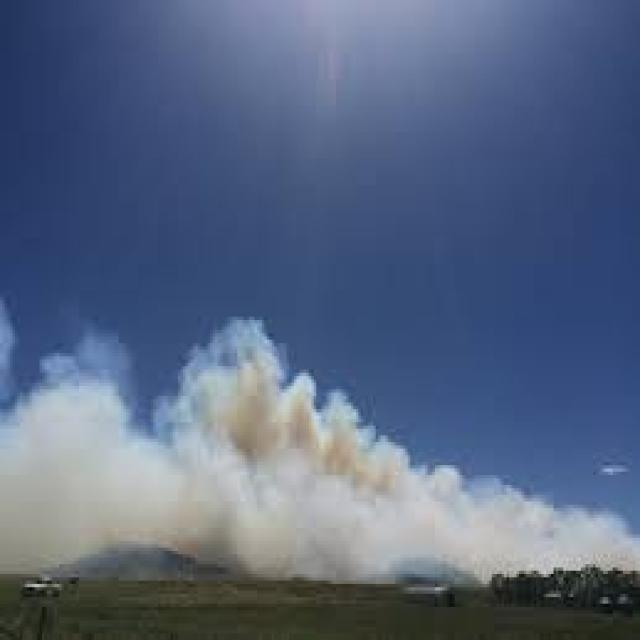Smoke: (0, 296, 640, 588)
